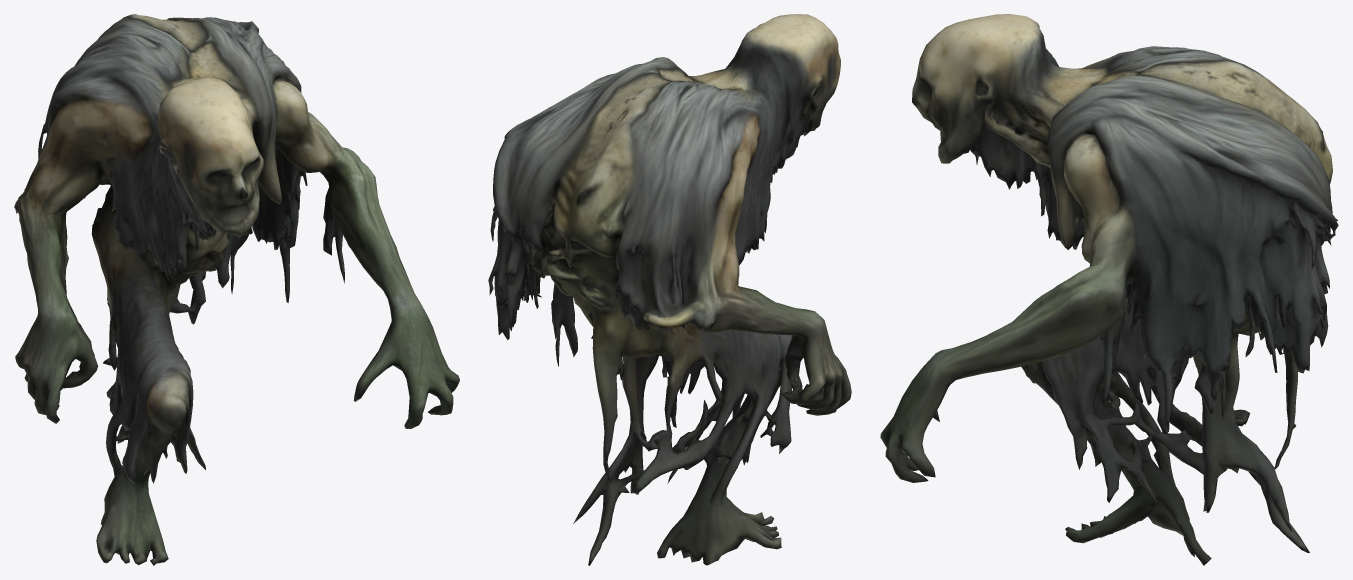
Rendered from rotbringer_thrall.glb.
3 views of the same model, side by side, from view 1: azimuth 30°, elevation 25°; view 2: azimuth 150°, elevation 25°; view 3: azimuth 270°, elevation 25° (orthographic). The views are drawn at different scales.
Bounding box in the file's own units: 1.39 × 2 × 1.58.
1 material, 1 textured.
